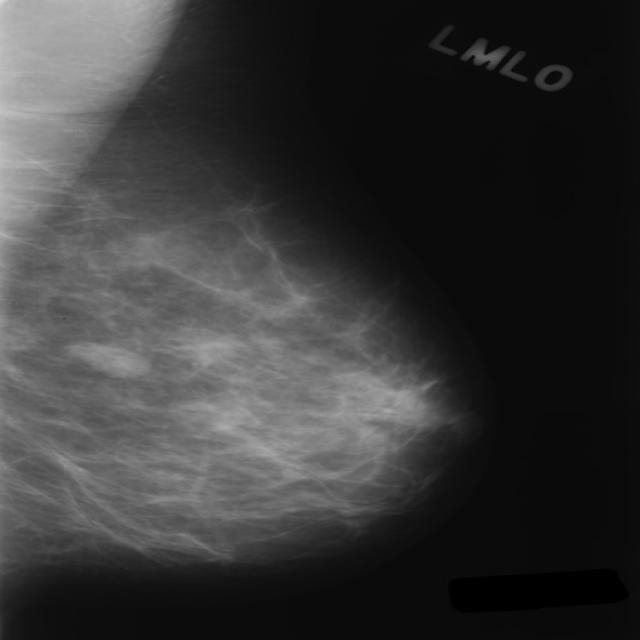tumour: (62, 339, 150, 379)
